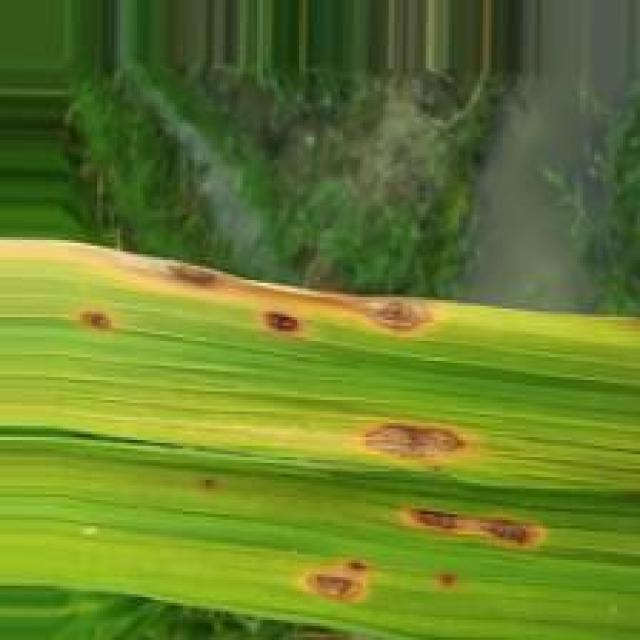Brown_Spot: (130, 256, 442, 342), (390, 505, 546, 558), (356, 421, 479, 472), (293, 556, 374, 609), (70, 309, 117, 332), (192, 471, 222, 493), (436, 568, 458, 586)
